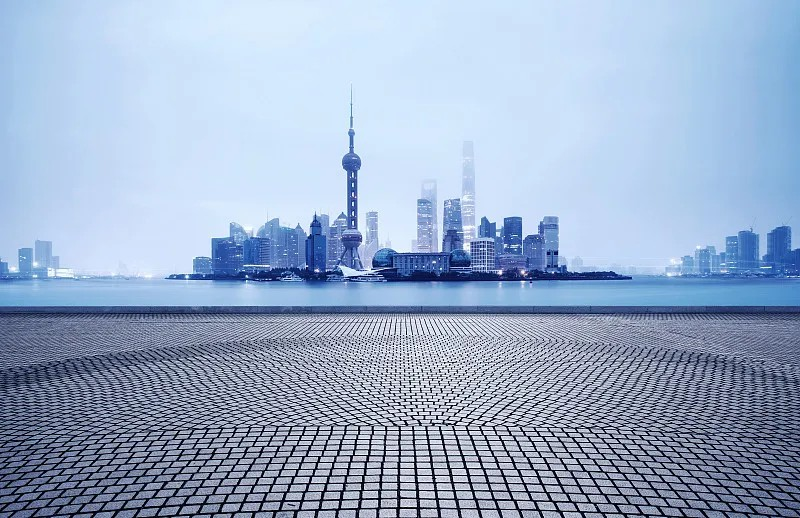Oriental: (332, 83, 364, 269)
